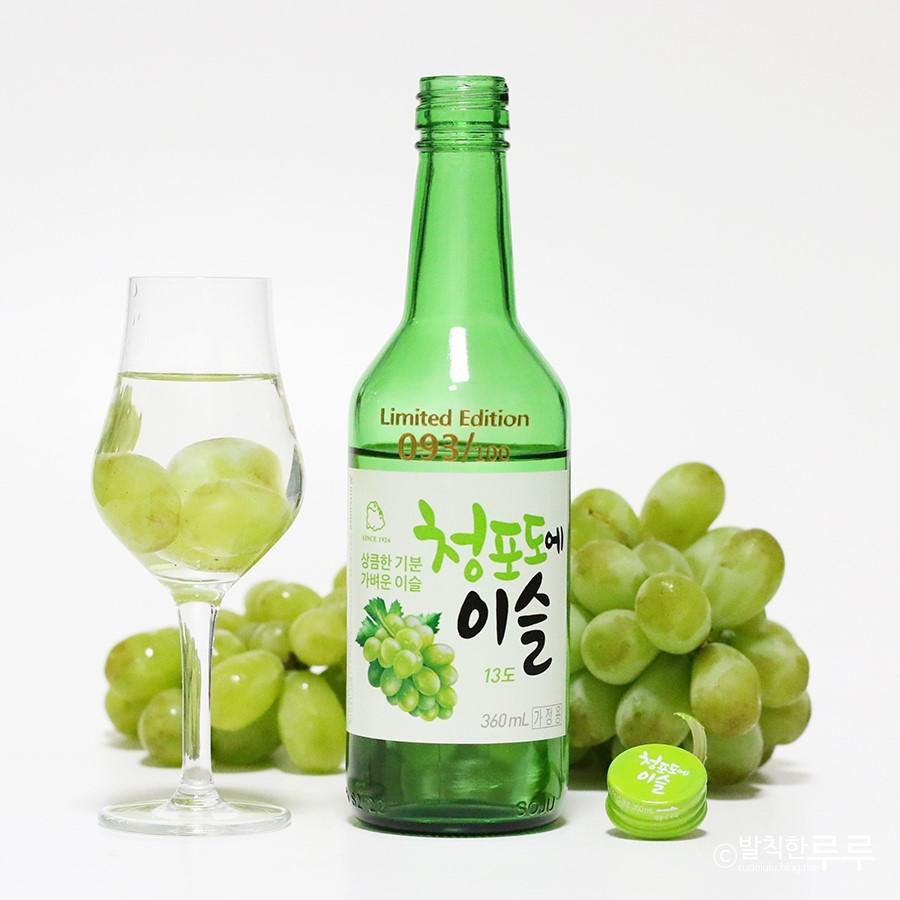soju: (341, 71, 568, 835)
